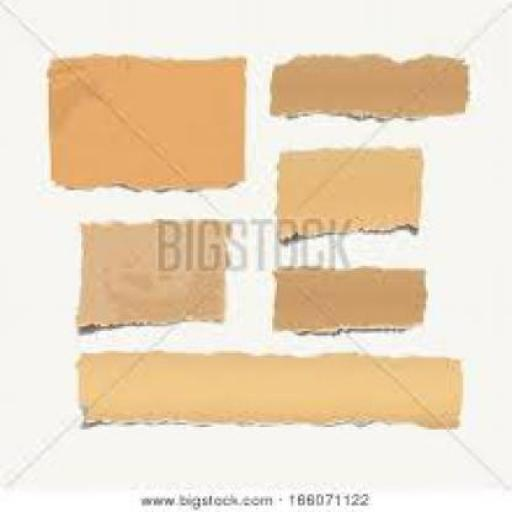cardboard: (77, 346, 461, 434), (44, 54, 244, 190), (77, 215, 226, 328), (273, 144, 419, 240), (268, 51, 468, 119), (272, 266, 426, 333)
